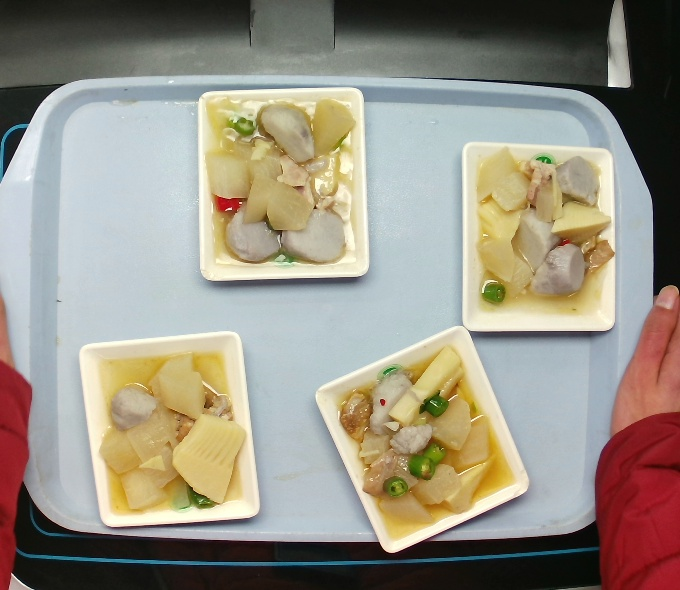wcq-YangYuChunSunDunLuoBo: (319, 345, 524, 535), (450, 149, 624, 326), (84, 344, 258, 521), (196, 90, 370, 267)
